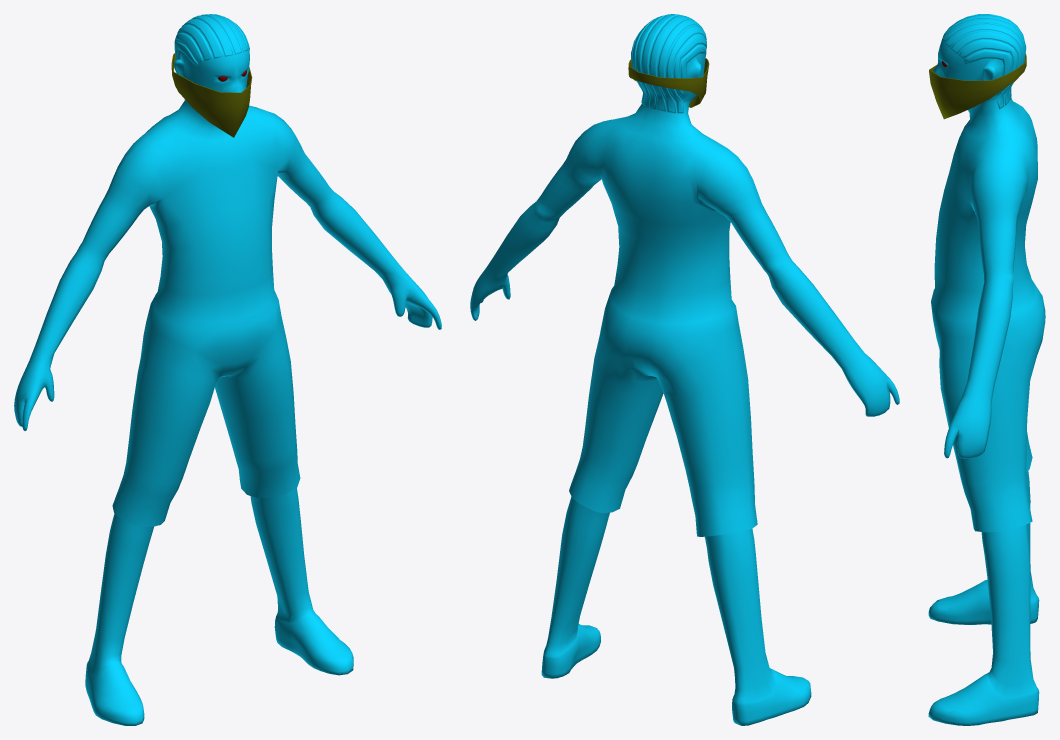
Rendered from Personaje1.fbx.
The picture shows the model from 3 angles, left to right: view 1: azimuth 30°, elevation 25°; view 2: azimuth 150°, elevation 25°; view 3: azimuth 270°, elevation 25°; orthographic projection. The views are drawn at different scales.
Visible parts, largest first — view 1: Cube; view 2: Cube; view 3: Cube.
Boxes of the visible parts, x1,y1,x2,y2 form: Cube: [14, 14, 441, 725]; Cube: [470, 14, 899, 725]; Cube: [928, 14, 1045, 725].
Size of the model in its own units: 1.21 by 1.82 by 0.2972.
